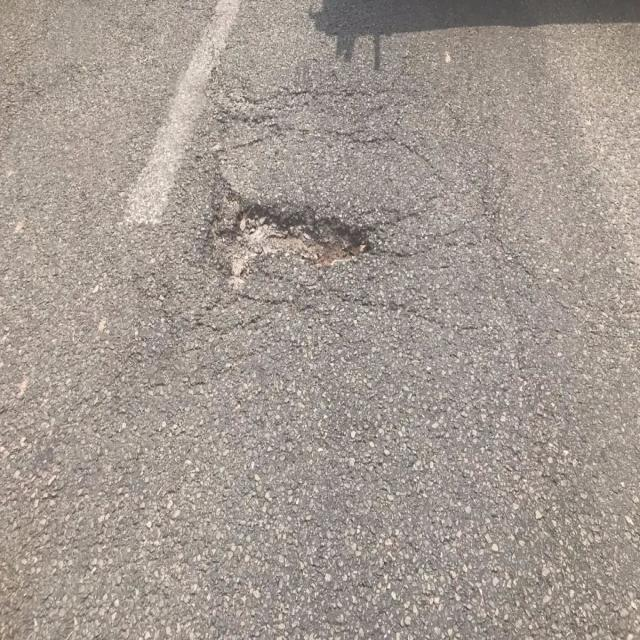Pothole: (194, 186, 392, 283)
